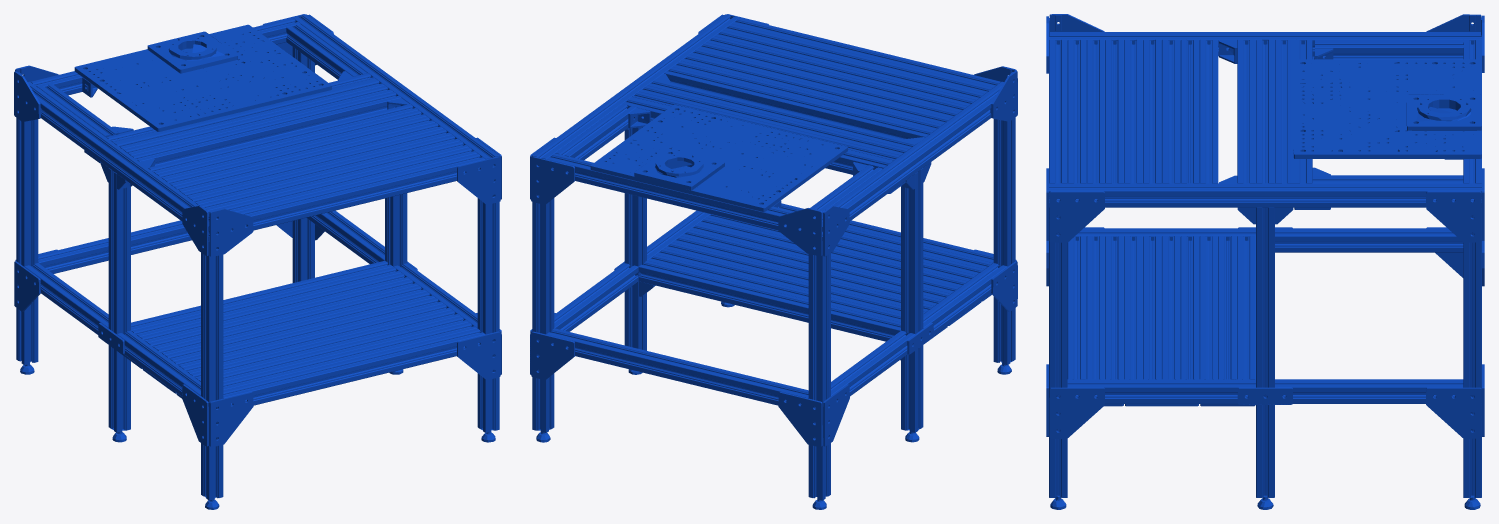
Rendered from frame.obj.
3 renders of one model, left to right at view 1: azimuth 30°, elevation 25°; view 2: azimuth 150°, elevation 25°; view 3: azimuth 270°, elevation 25°, orthographic. The views are drawn at different scales.
Parts seen in each view (by area): view 1: VentionAssembly_384936_v2.STEP; view 2: VentionAssembly_384936_v2.STEP; view 3: VentionAssembly_384936_v2.STEP.
Part boxes in pixels (left/top/right/bottom): VentionAssembly_384936_v2.STEP: left=14, top=14, right=501, bottom=509; VentionAssembly_384936_v2.STEP: left=530, top=14, right=1017, bottom=509; VentionAssembly_384936_v2.STEP: left=1046, top=14, right=1484, bottom=509.
Bounding box in the file's own units: 0.912 × 0.89 × 1.05.
